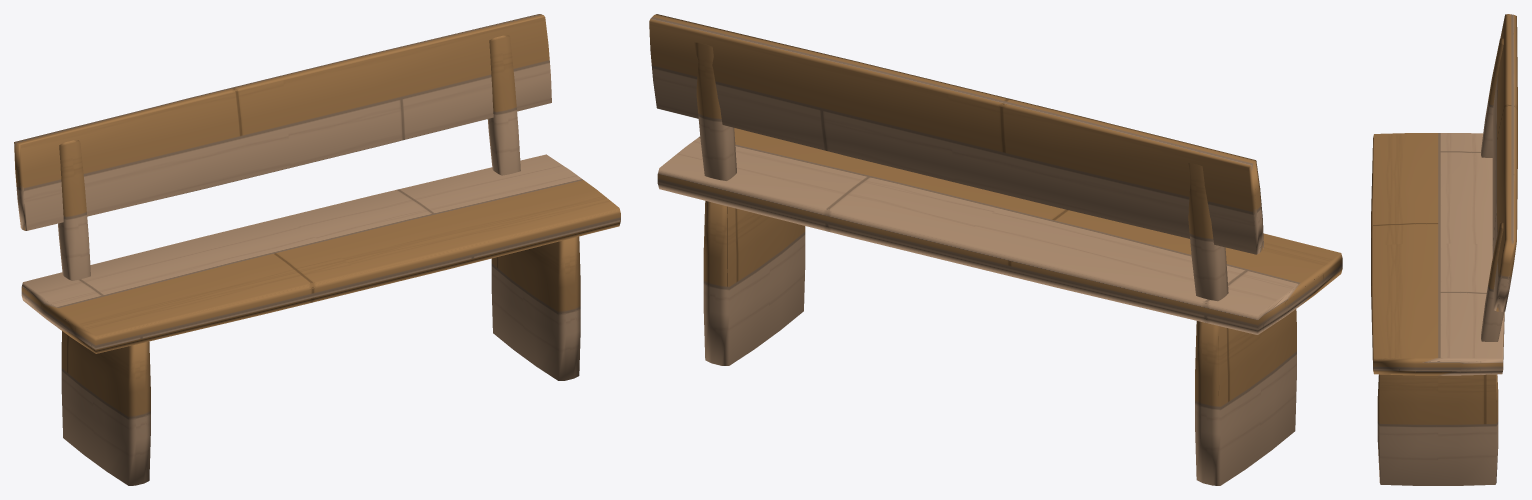
The model's file is prop_bench.glb.
3 views of the same model, side by side, from view 1: azimuth 30°, elevation 25°; view 2: azimuth 150°, elevation 25°; view 3: azimuth 270°, elevation 25° (orthographic). The views are drawn at different scales.
Visible parts, largest first — view 1: prop_bench_wood; view 2: prop_bench_wood; view 3: prop_bench_wood.
Part boxes in pixels (box(x1,y1,x2,y2)): prop_bench_wood: box(14, 14, 620, 485); prop_bench_wood: box(649, 14, 1342, 485); prop_bench_wood: box(1371, 14, 1517, 485).
Bounding box in the file's own units: 1.6 × 0.8748 × 0.4378.
Materials: 1 (1 with a texture image).
